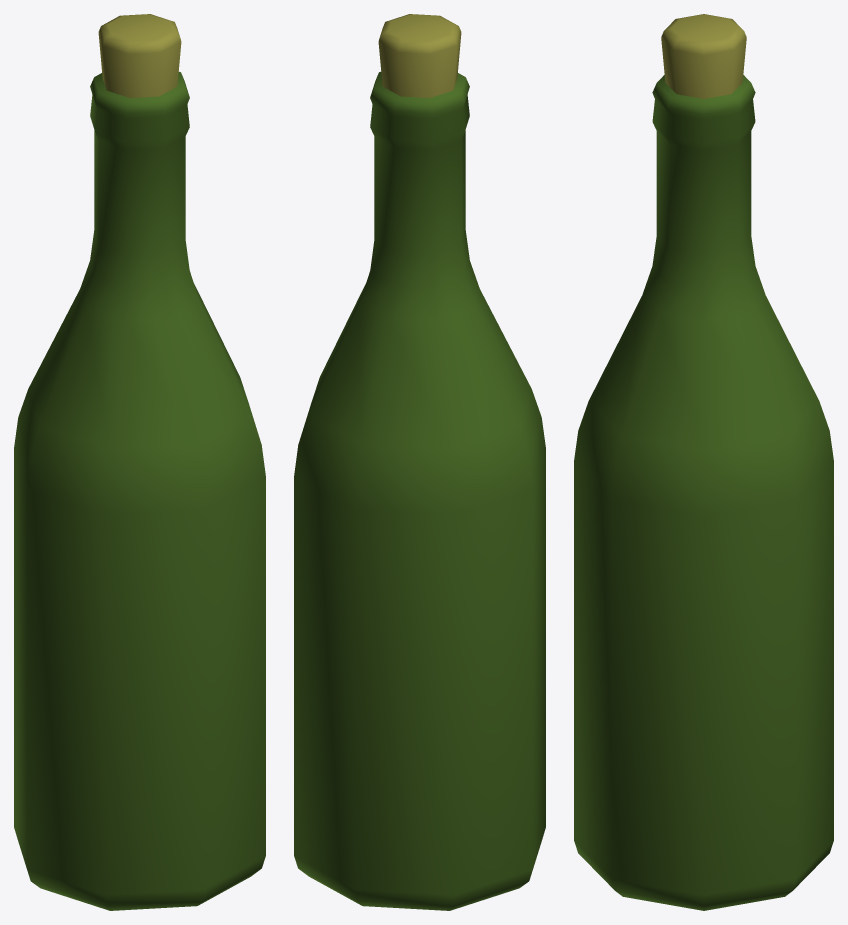
File: Bottle.fbx
3 views of the same model, side by side, from view 1: azimuth 30°, elevation 25°; view 2: azimuth 150°, elevation 25°; view 3: azimuth 270°, elevation 25° (orthographic).
Visible parts, largest first — view 1: Cylinder, Cylinder.001; view 2: Cylinder, Cylinder.001; view 3: Cylinder, Cylinder.001.
Part boxes in pixels (left/top/right/bottom): Cylinder: left=14, top=71, right=265, bottom=910; Cylinder.001: left=98, top=14, right=181, bottom=97; Cylinder: left=294, top=71, right=545, bottom=910; Cylinder.001: left=378, top=14, right=461, bottom=97; Cylinder: left=574, top=75, right=833, bottom=910; Cylinder.001: left=661, top=14, right=746, bottom=98.
Size of the model in its own units: 200 by 711 by 200.
